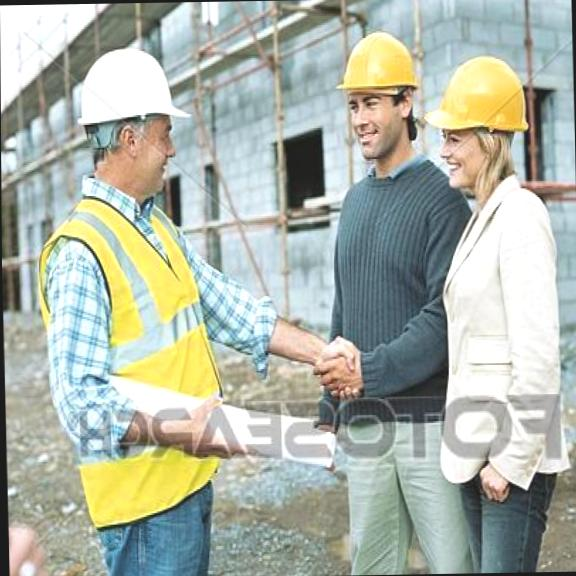safety_vest: (34, 204, 225, 529)
